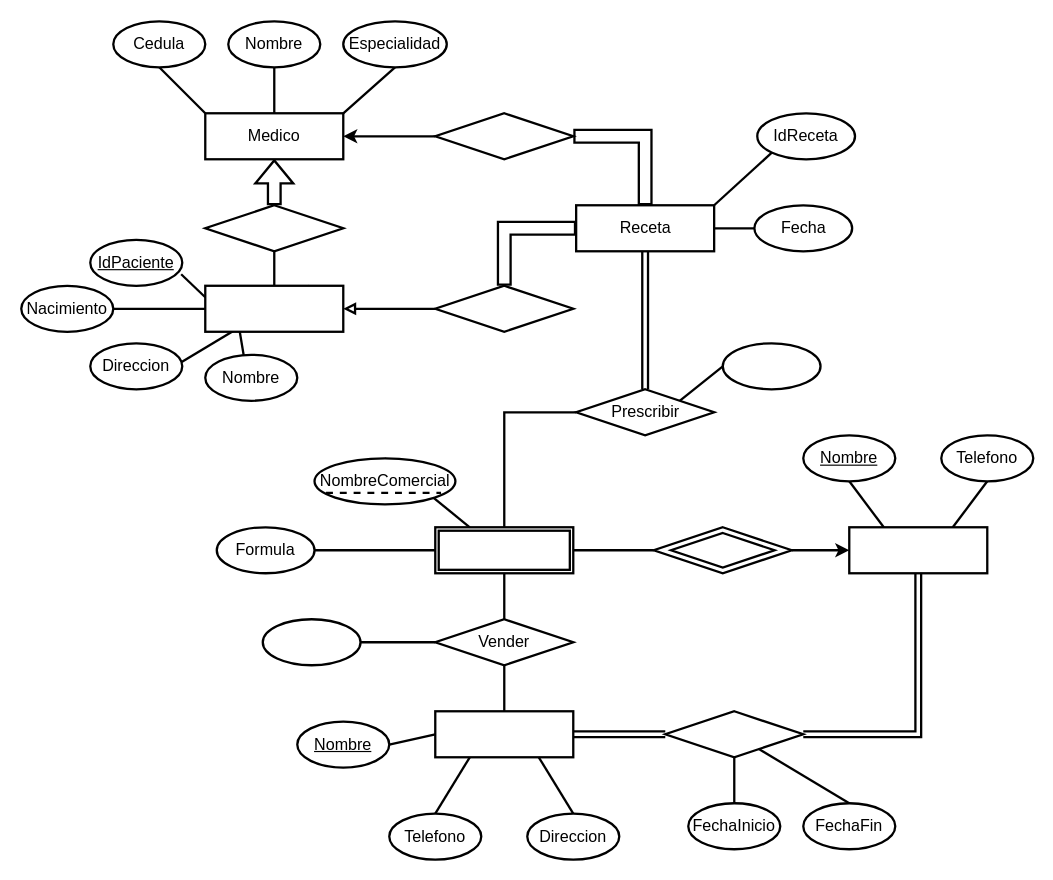
This 1053x880 diagram has some shape labels left out. The shapes that lost their labels are listed below. From the top down, each one's centre as x and y in pixels, then its label:
pixel 504 136: Asignar
pixel 274 228: Atender
pixel 274 308: Paciente
pixel 504 308: Recibir
pixel 771 366: Cantidad
pixel 504 550: Medicina
pixel 722 549: Fabricar
pixel 918 550: Farmaceutica
pixel 311 642: Precio
pixel 504 734: Farmacia
pixel 734 734: contratar
